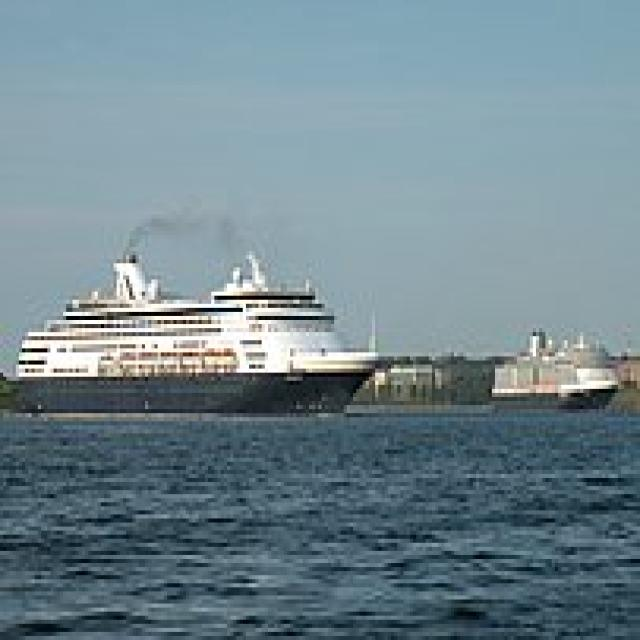Cruise: (10, 247, 398, 417), (482, 324, 618, 413)
